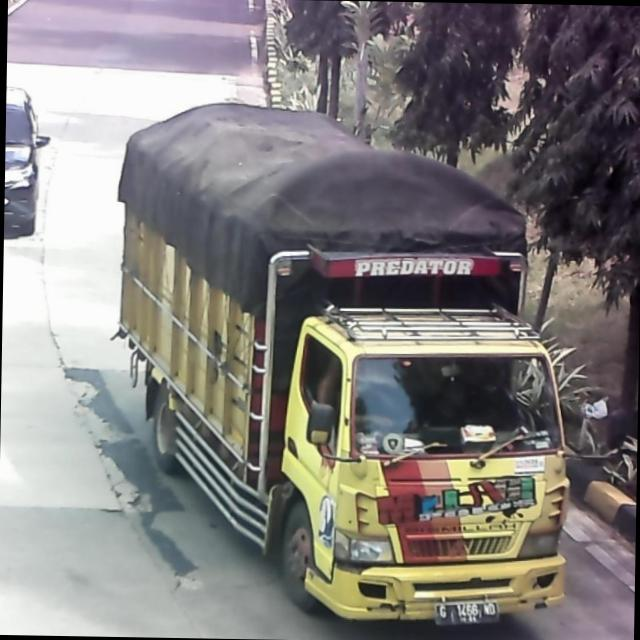plate: (432, 599, 506, 626)
